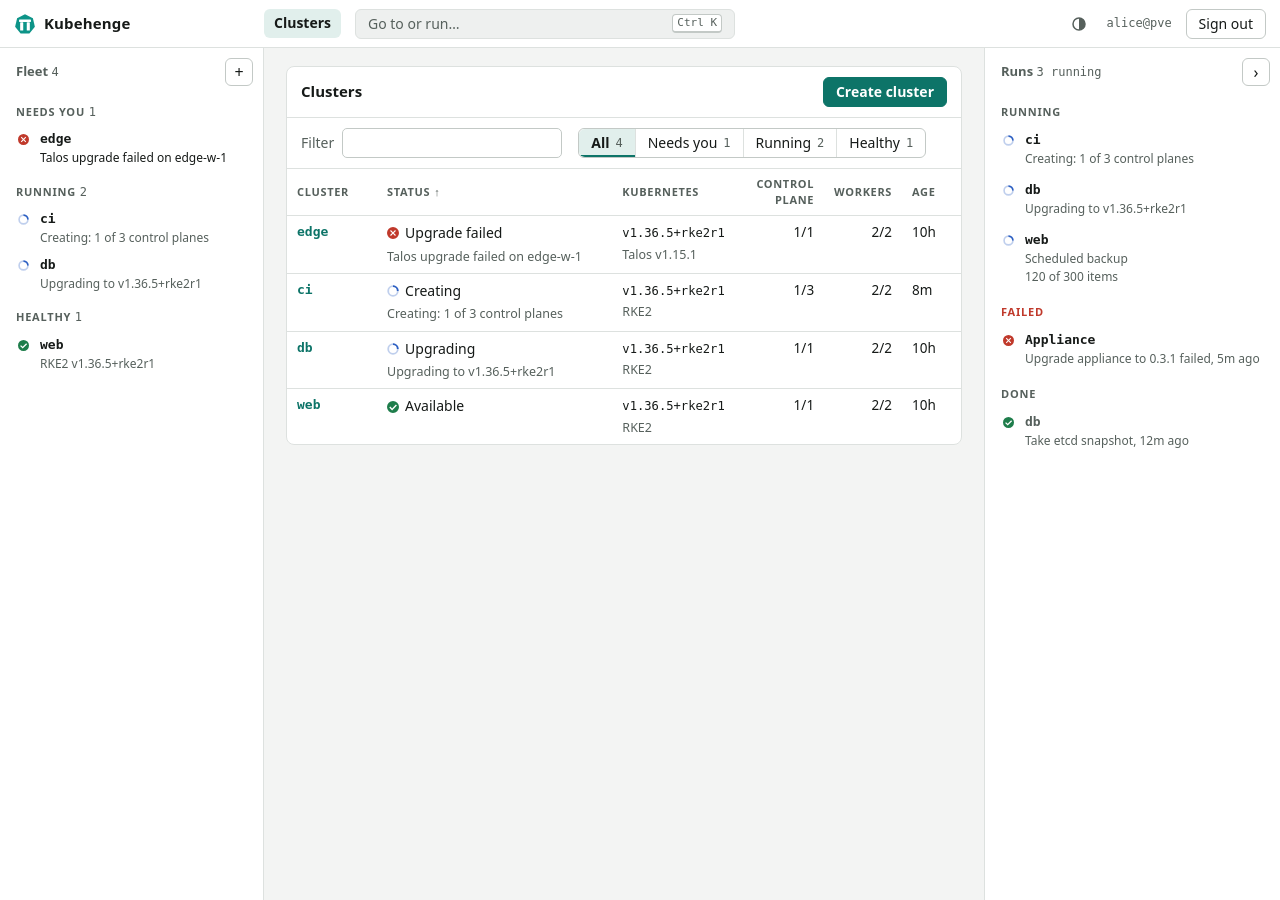
Test: the console › follows the snapshots, backups and the appliance's work, a failure's error on its own page
The image size is (1280, 900).
Expected: the link "web Scheduled backup 120 of 300 items" is shown, 1003,232 -> 1128,285
Expected: the link "db Take etcd snapshot, 12m ago" is shown, 1003,414 -> 1189,449
Click the link "Appliance Upgrade appliance to 0.3.1 failed, 5m ago" at (1132, 349), box 985,324 -> 1279,374
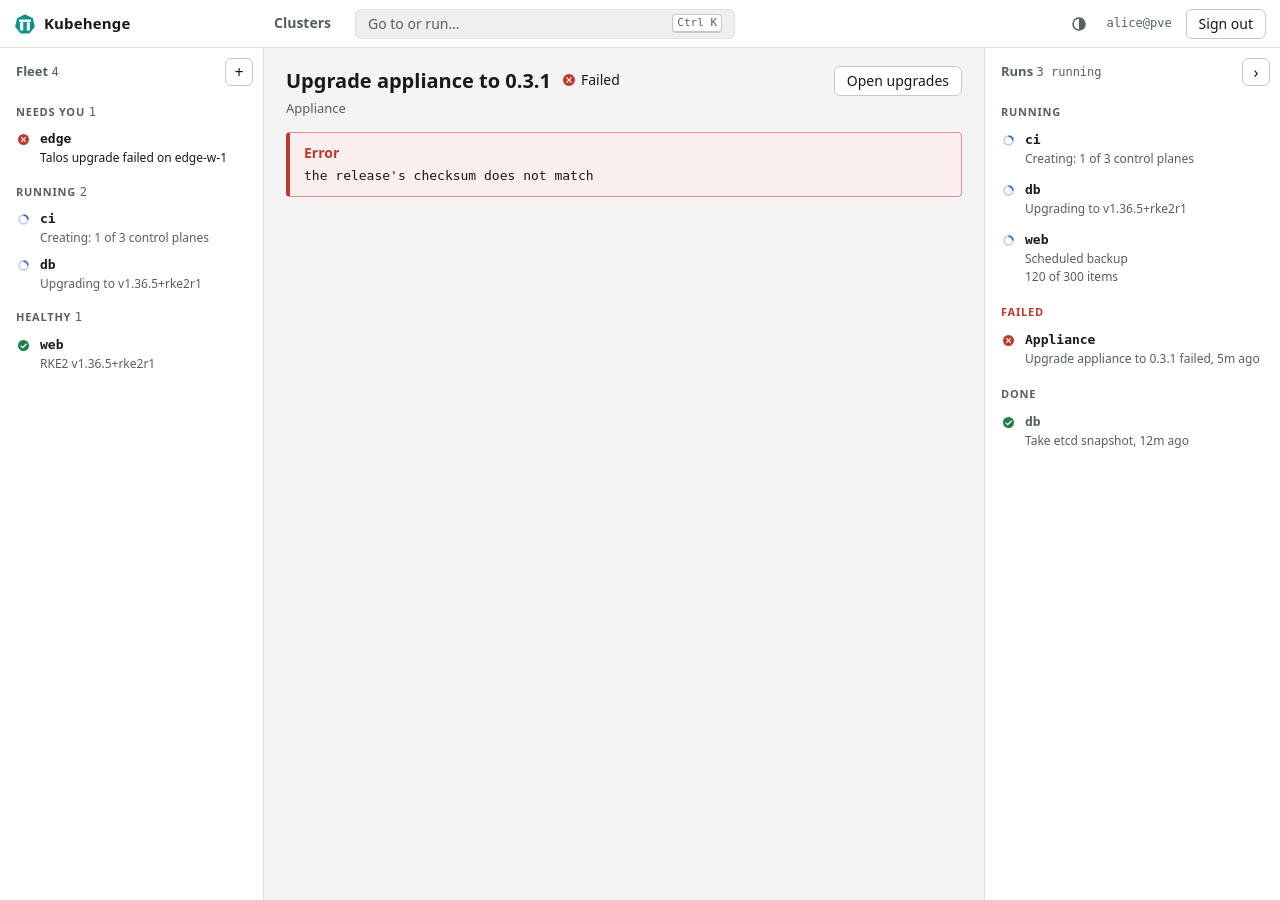
Result: the message reads "Error the release's checksum does not match" at 286,132 -> 962,197
